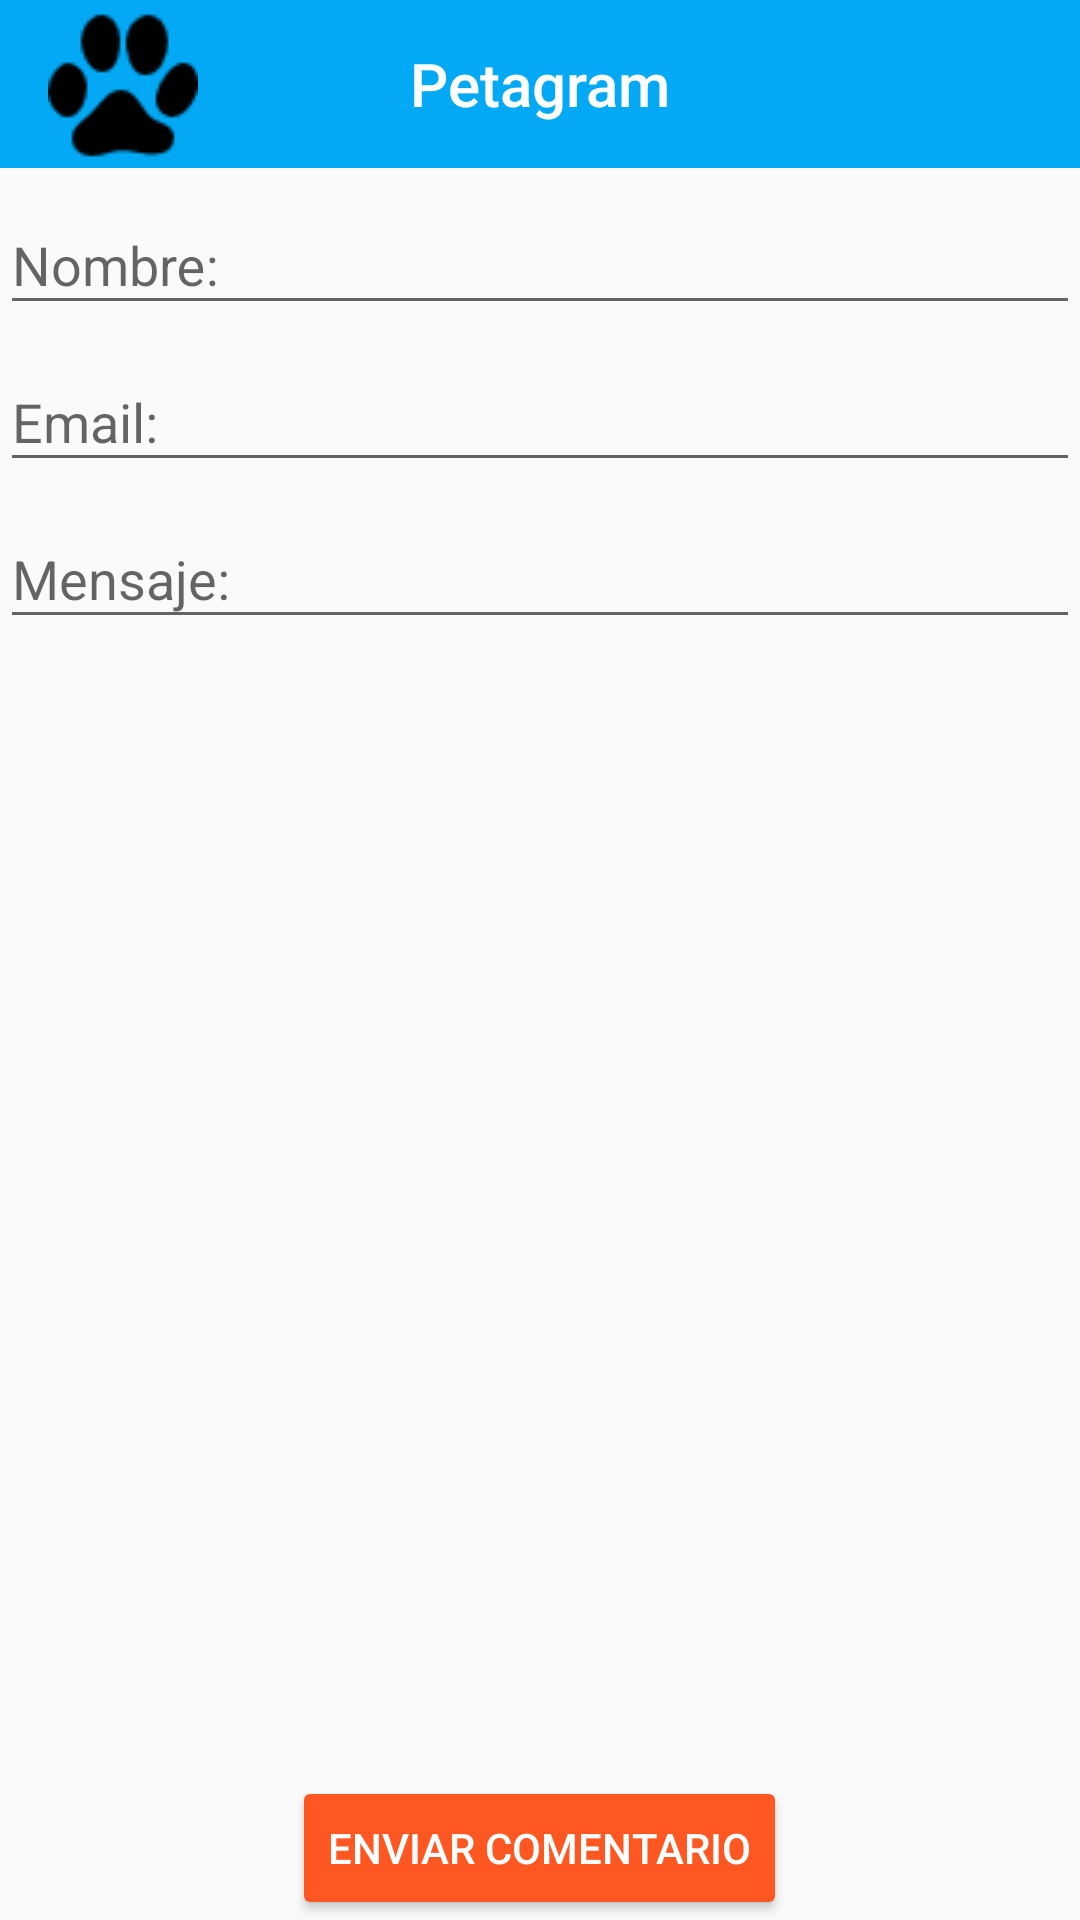

Icons on this 1080px x 1920px Android screen, each with the point to tap as (x,y):
huella: (123,85)
